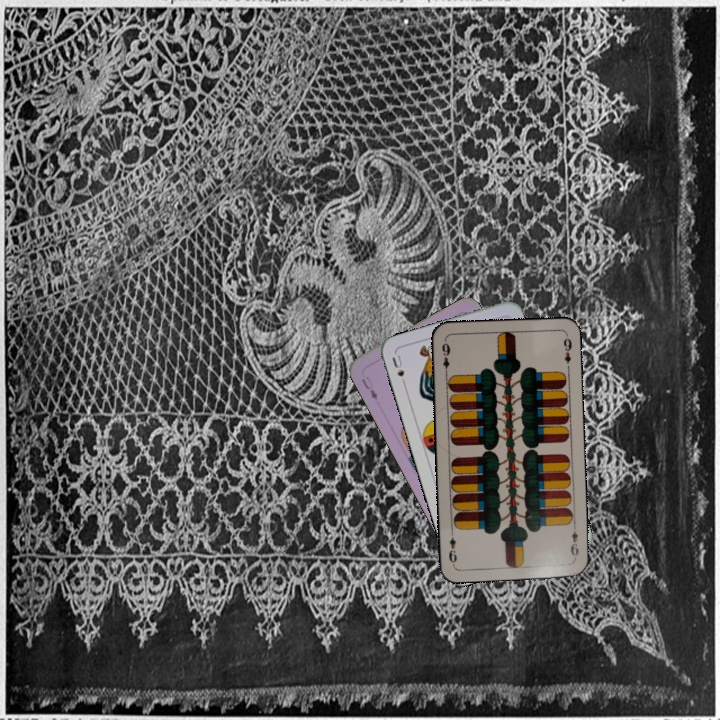E9: (438, 337, 452, 378), (567, 521, 581, 561)
EU: (357, 374, 380, 403)
SU: (388, 351, 409, 390)
